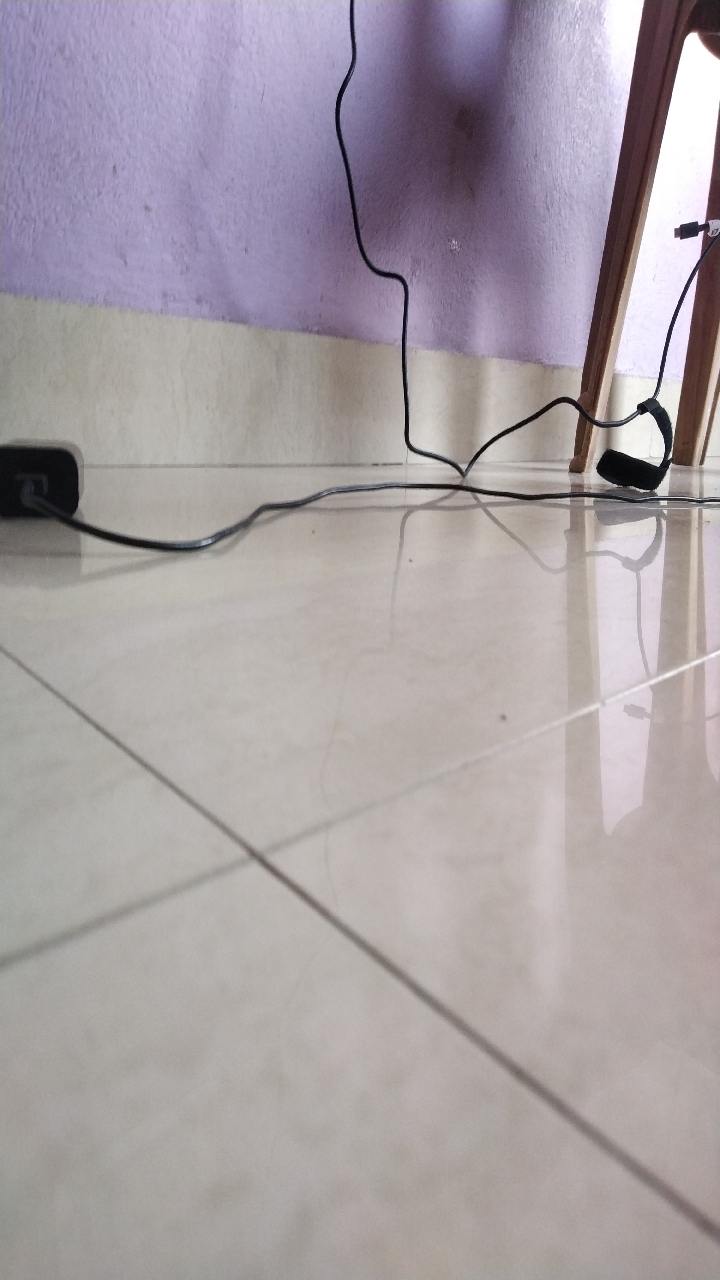Furnitures: (555, 245, 720, 488)
cables: (2, 404, 720, 586), (321, 1, 564, 515), (662, 203, 720, 442)
